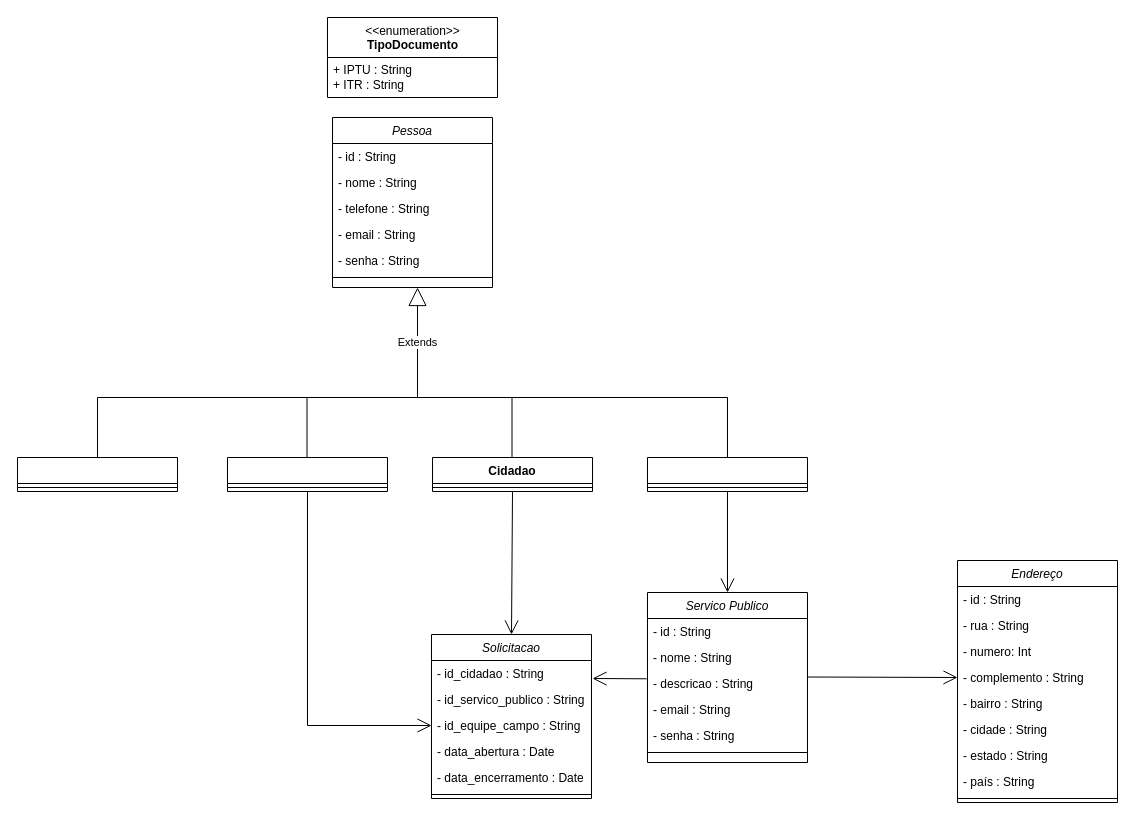
Some shapes in this 1135 by 820 pixel diagram are drawn without their labels. The centre of each missing label's shape, as x and y in pixels:
"Central Atendimento" belongs at (97,474).
"Equipe Campo" belongs at (307,474).
"Orgao Municipal" belongs at (727,474).
